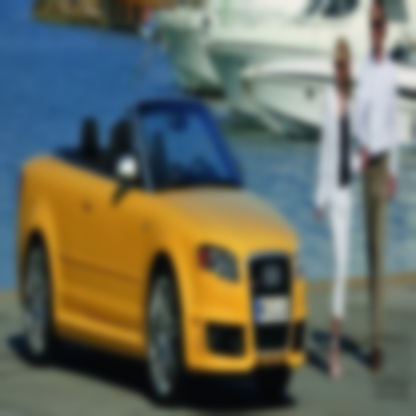Vehicle: (15, 44, 309, 410)
